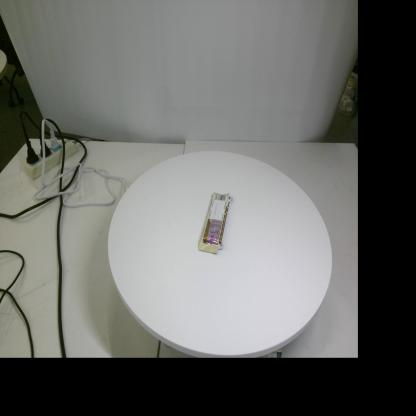Chocolate: (198, 193, 234, 254)
